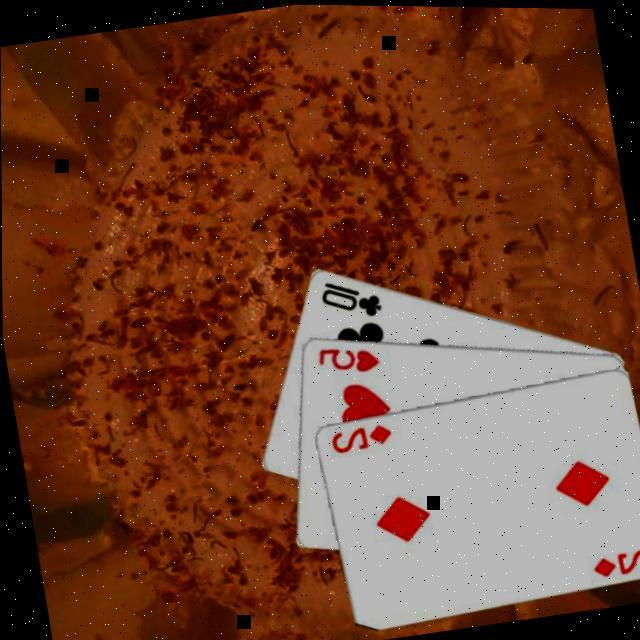10C: (312, 269, 382, 325)
2D: (322, 416, 392, 456), (584, 540, 640, 580)
5H: (310, 335, 380, 380)
